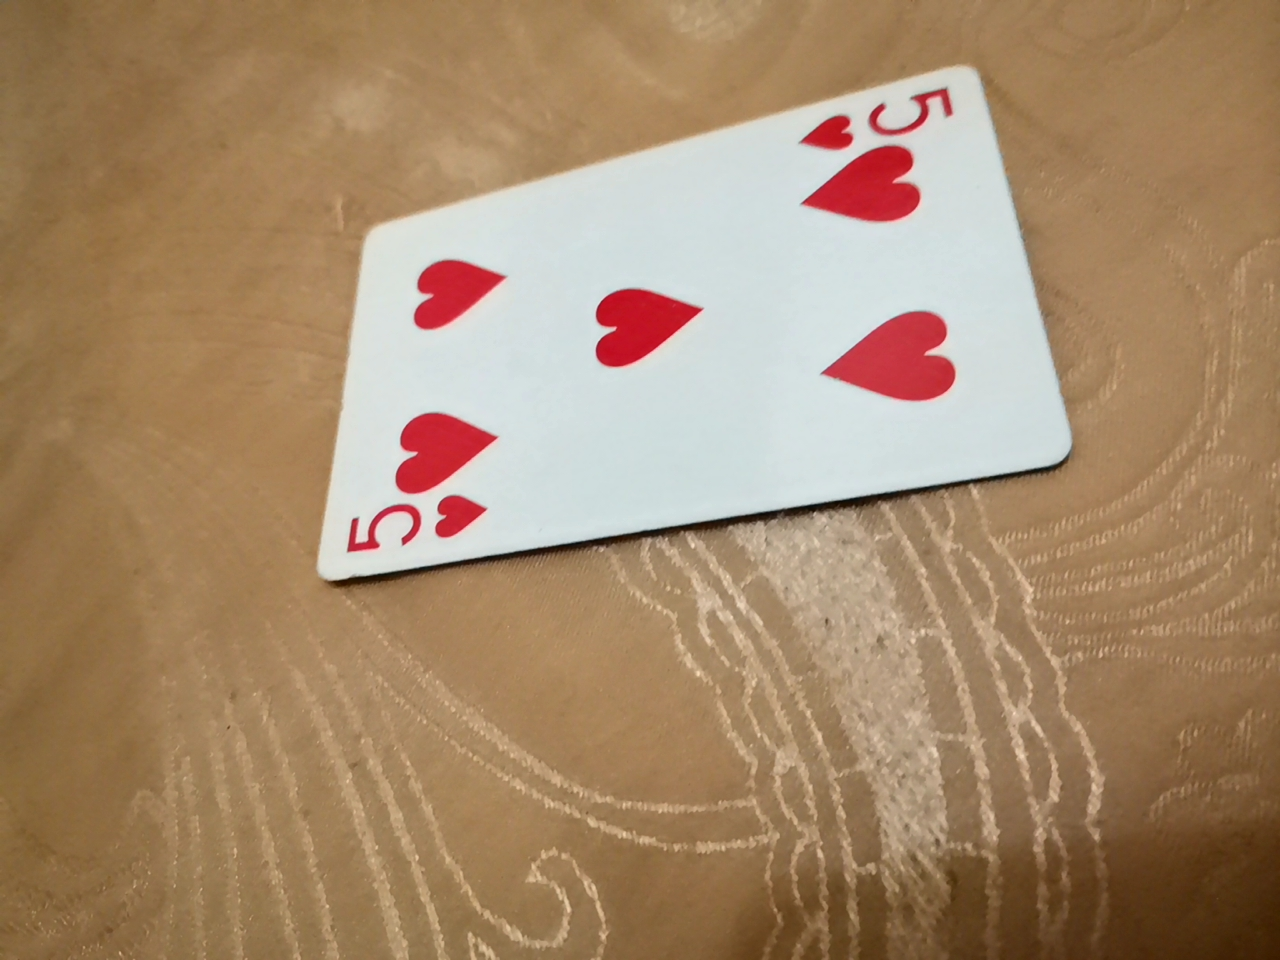hx 5: (249, 132, 1013, 669)
